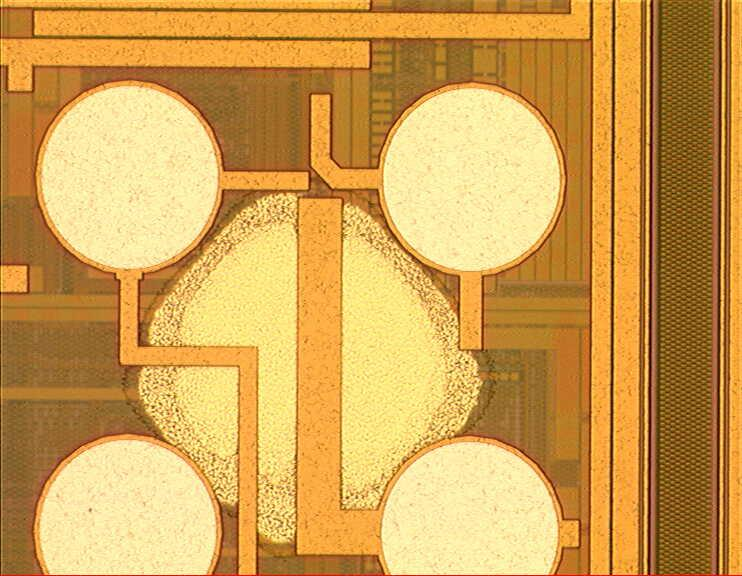BLOCK ETCH: (121, 184, 503, 561)
